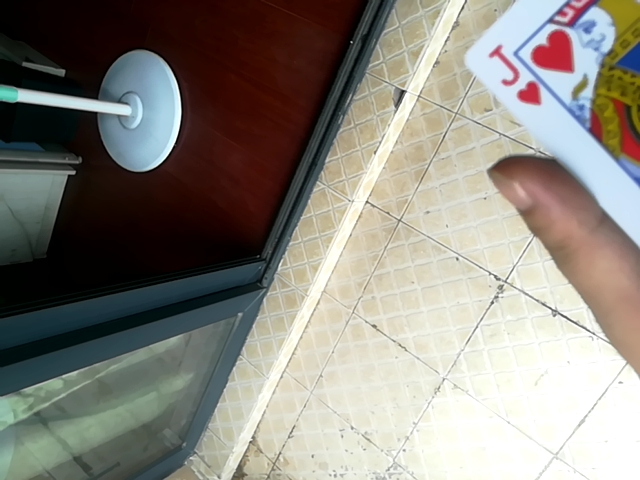hx j: (461, 0, 635, 317)
